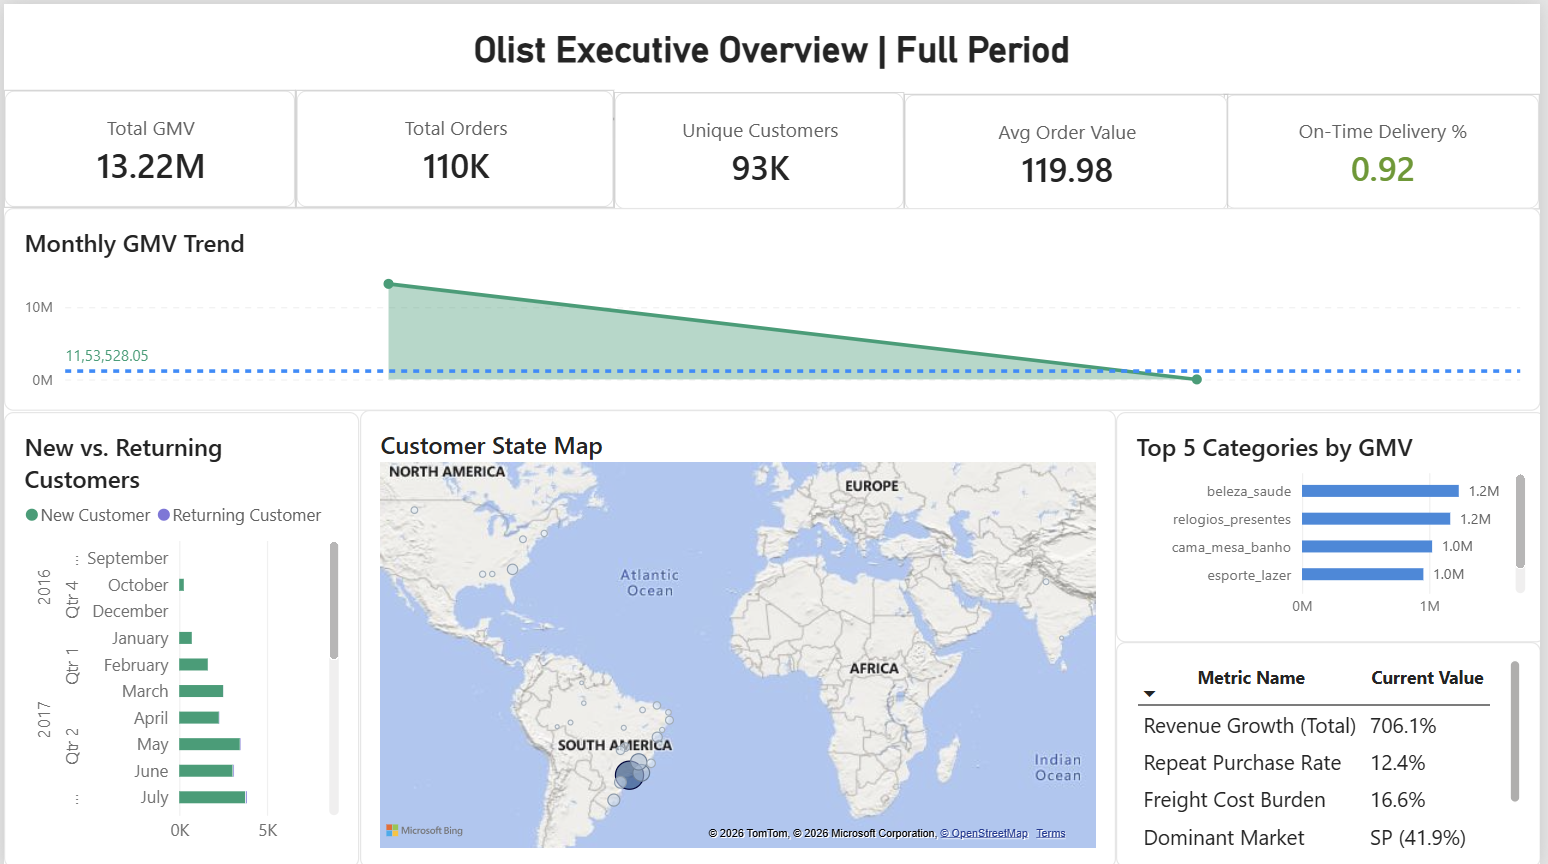

The page's visual inventory and layout, read from the dashboard file:
{"tool":"powerbi","page":{"name":"Executive Overview","canvas":[1280,720],"ordinal":0},"visuals":[{"type":"textbox","title":"Executive Overview","box":[571,0,295,73.8],"z":0},{"type":"actionButton","title":"Overview","box":[0,0.5,107.5,71.2],"z":1000},{"type":"cardVisual","fields":{"Data":["delivered_orders.Total GMV"]},"box":[0,71.7,243.4,98.7],"z":2000},{"type":"actionButton","title":"Overview","box":[110.9,0.5,103.8,71.2],"z":3000},{"type":"cardVisual","fields":{"Data":["DateTable.On-Time Delivery %"]},"box":[1020,73.3,261.7,95],"z":4000},{"type":"actionButton","title":"Overview","box":[218.1,0.5,116.2,71.2],"z":5000},{"type":"cardVisual","fields":{"Data":["DateTable.Total Orders"]},"box":[243.3,71.7,265,98.3],"z":6000},{"type":"actionButton","title":"Overview","box":[337.8,0.5,116.2,71.2],"z":7000},{"type":"cardVisual","fields":{"Data":["DateTable.Unique Customers"]},"box":[508,74,242,96],"z":8000},{"type":"actionButton","title":"Overview","box":[457.5,0.5,116.2,71.2],"z":9000},{"type":"cardVisual","fields":{"Data":["DateTable.Avg Order Value"]},"box":[750,74,270,96],"z":10000},{"type":"barChart","title":"New vs. Returning Customers","fields":{"Y":["DateTable.Unique Customers"],"Series":["delivered_orders.customer_type"],"Category":["delivered_orders.order_month_name.Variation.Date Hierarchy.Year","delivered_orders.order_month_name.Variation.Date Hierarchy.Quarter","delivered_orders.order_month_name.Variation.Date Hierarchy.Month","delivered_orders.order_month_name.Variation.Date Hierarchy.Day"]},"box":[630,171,296,549],"z":11000},{"type":"areaChart","title":"Monthly GMV Trend","fields":{"Category":["DateTable.MonthName"],"Y":["delivered_orders.Total GMV"]},"box":[0,171,629,228],"z":12000},{"type":"clusteredBarChart","title":"Top 5 Categories by GMV","fields":{"Category":["delivered_orders.product_category"],"Y":["delivered_orders.Total GMV"]},"box":[926.7,398.3,355,321.7],"z":13000},{"type":"map","title":"Customer State Map","fields":{"Category":["delivered_orders.customer_state"],"Size":["delivered_orders.Unique Customers"]},"box":[0,396.7,630,323.3],"z":14000},{"type":"tableEx","fields":{"Values":["Executive_Summary_Table.Metric Name","Executive_Summary_Table.Current Value"]},"box":[926.7,170,353.3,226.7],"z":15000},{"type":"slicer","fields":{"Values":["delivered_orders.order_approved_at.Variation.Date Hierarchy.Quarter"]},"box":[864,0,416,72],"z":16000}]}

Visuals, with their boxes in screenshot pixels (x1, y1, x2, y2), scaled from the page's 1280x720 canvas onto the 1548x864 screenshot:
"Executive Overview" textbox: {"left": 691, "top": 0, "right": 1047, "bottom": 89}
"Overview" actionButton: {"left": 0, "top": 1, "right": 130, "bottom": 86}
cardVisual - delivered_orders.Total GMV: {"left": 0, "top": 86, "right": 294, "bottom": 204}
"Overview" actionButton: {"left": 134, "top": 1, "right": 260, "bottom": 86}
cardVisual - DateTable.On-Time Delivery %: {"left": 1234, "top": 88, "right": 1547, "bottom": 202}
"Overview" actionButton: {"left": 264, "top": 1, "right": 404, "bottom": 86}
cardVisual - DateTable.Total Orders: {"left": 294, "top": 86, "right": 615, "bottom": 204}
"Overview" actionButton: {"left": 409, "top": 1, "right": 549, "bottom": 86}
cardVisual - DateTable.Unique Customers: {"left": 614, "top": 89, "right": 907, "bottom": 204}
"Overview" actionButton: {"left": 553, "top": 1, "right": 694, "bottom": 86}
cardVisual - DateTable.Avg Order Value: {"left": 907, "top": 89, "right": 1234, "bottom": 204}
"New vs. Returning Customers" barChart: {"left": 762, "top": 205, "right": 1120, "bottom": 863}
"Monthly GMV Trend" areaChart: {"left": 0, "top": 205, "right": 761, "bottom": 479}
"Top 5 Categories by GMV" clusteredBarChart: {"left": 1121, "top": 478, "right": 1547, "bottom": 863}
"Customer State Map" map: {"left": 0, "top": 476, "right": 762, "bottom": 863}
tableEx - Executive_Summary_Table.Metric Name x Executive_Summary_Table.Current Value: {"left": 1121, "top": 204, "right": 1547, "bottom": 476}
slicer - delivered_orders.order_approved_at.Variation.Date Hierarchy.Quarter: {"left": 1045, "top": 0, "right": 1547, "bottom": 86}
